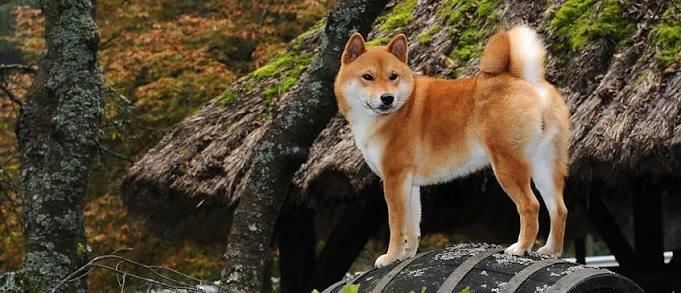adult_dog: (334, 22, 572, 269)
